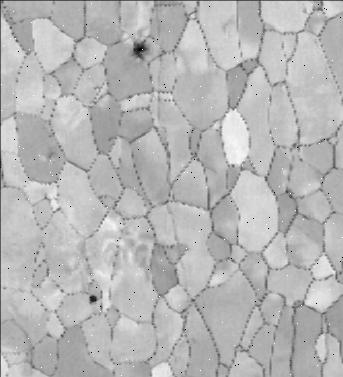good_void: (120, 39, 157, 61), (80, 286, 109, 308), (44, 146, 59, 165), (115, 157, 123, 164), (116, 118, 121, 128), (301, 7, 306, 15)
